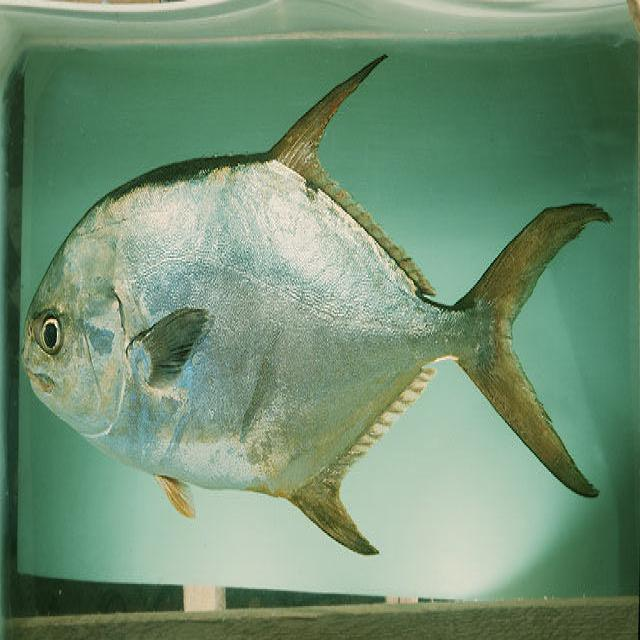ikan: (19, 51, 613, 557)
